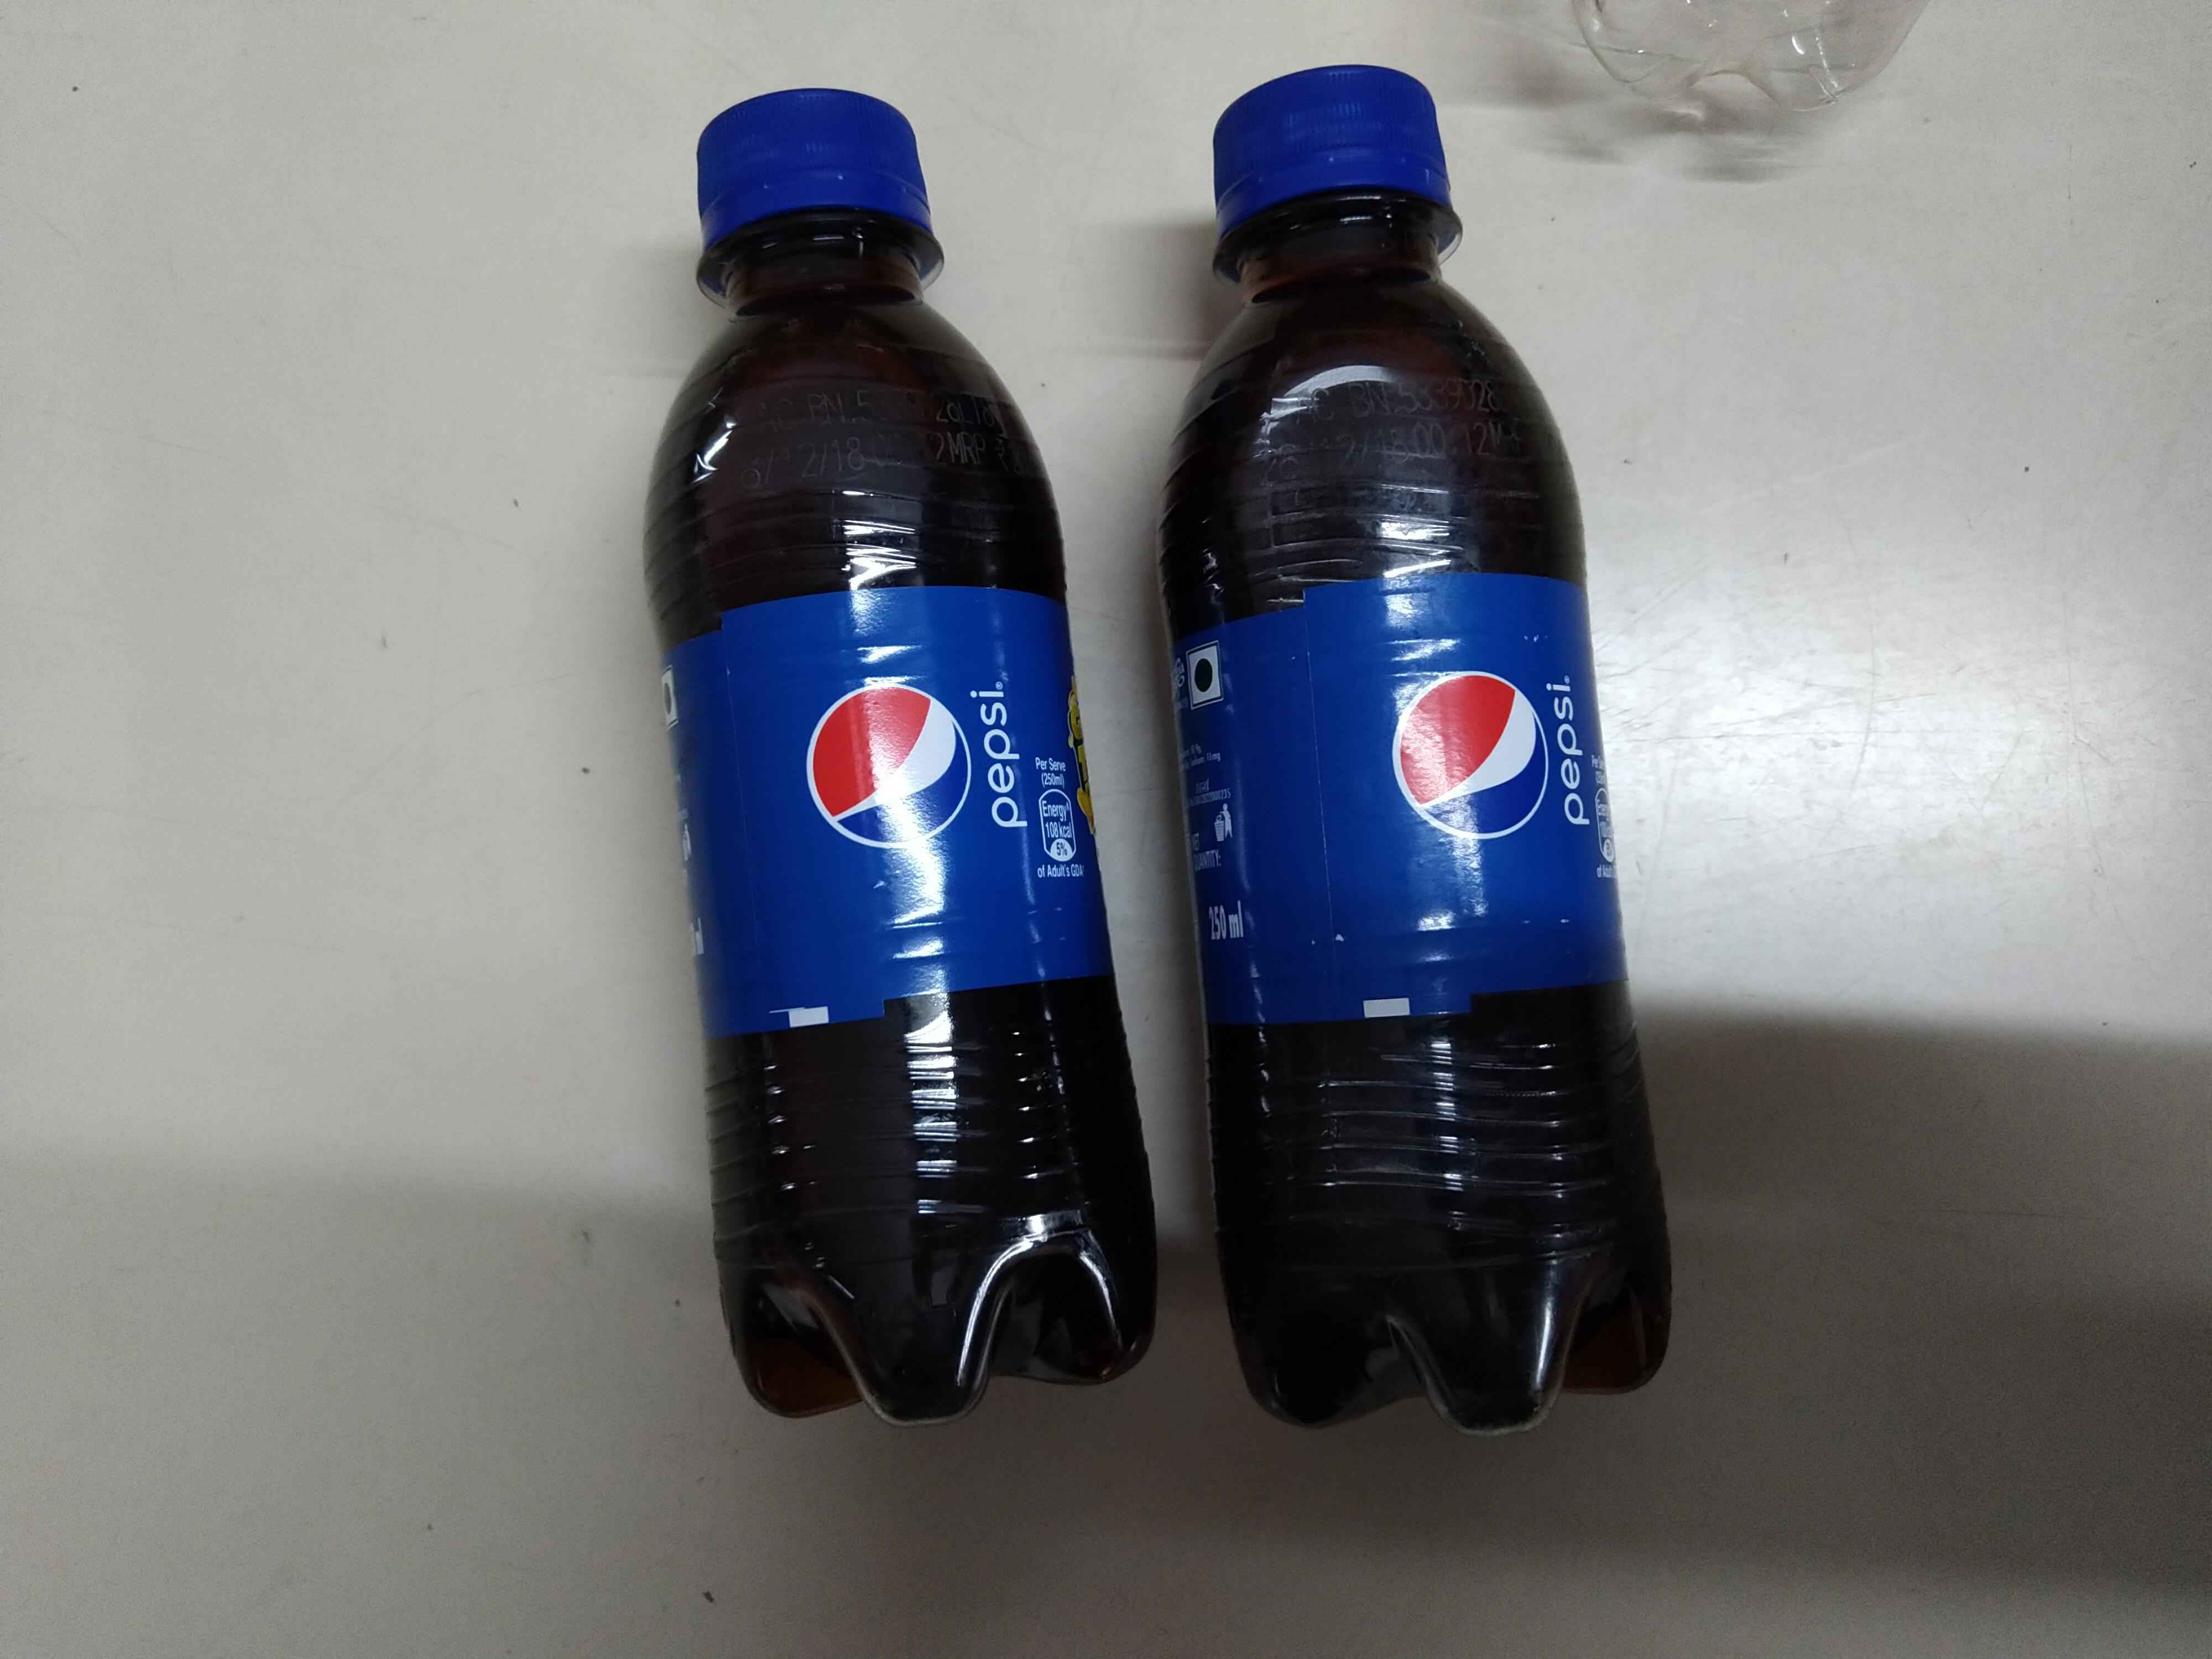pepsi: (1287, 606, 1594, 901), (751, 634, 1080, 892)
